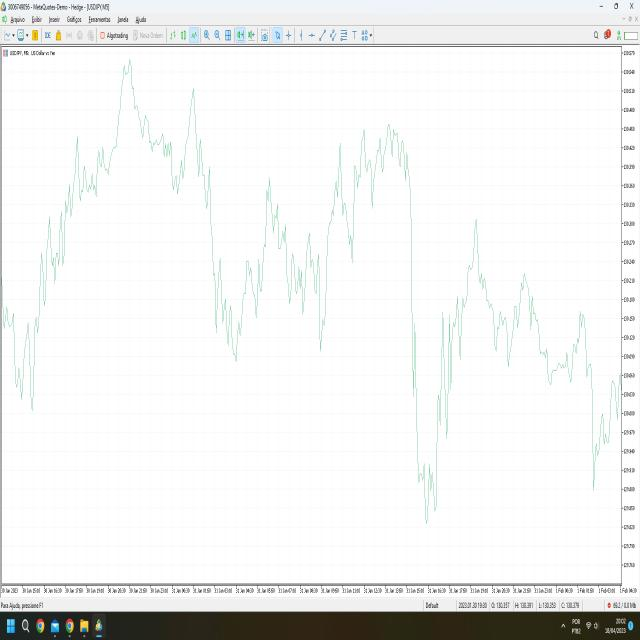fundo_duplo: (485, 305, 517, 375)
oco: (315, 138, 350, 244), (348, 116, 376, 221)
oco_inv: (404, 426, 444, 526)
